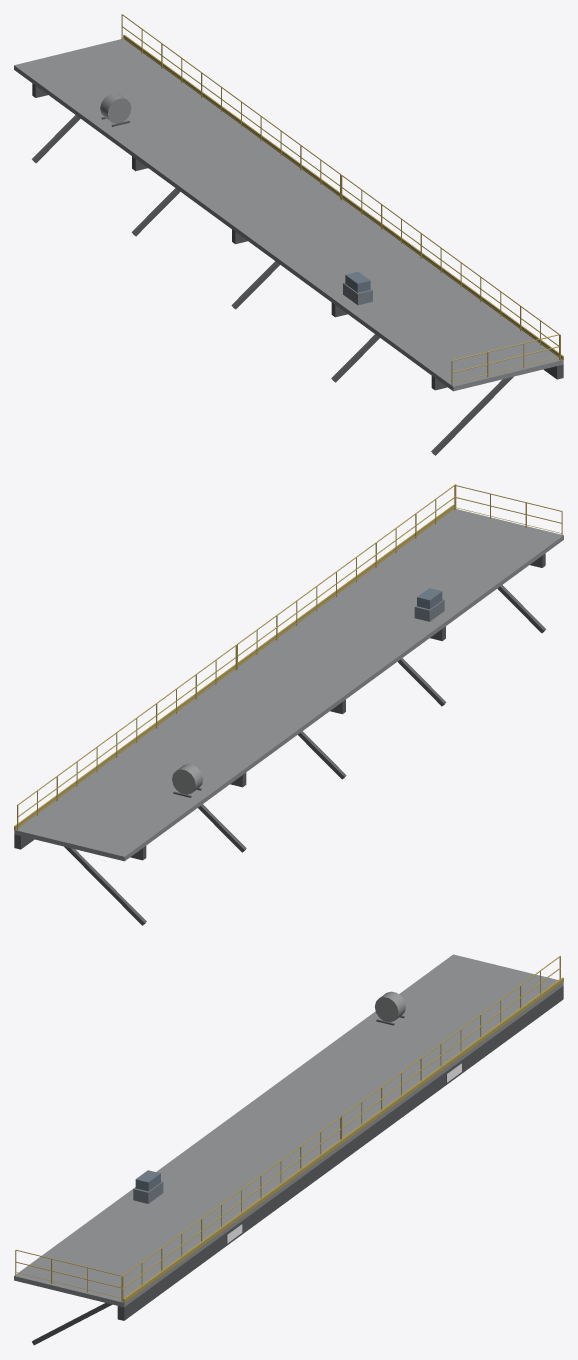
File: plat_w5.glb
3 renders of one model, top to bottom at view 1: azimuth 30°, elevation 25°; view 2: azimuth 150°, elevation 25°; view 3: azimuth 330°, elevation 25°, orthographic.
Parts seen in each view (by area): view 1: plat_w5; view 2: plat_w5; view 3: plat_w5.
Boxes of the visible parts, x1,y1,x2,y2 form: plat_w5: [14, 14, 563, 455]; plat_w5: [14, 484, 563, 925]; plat_w5: [14, 954, 563, 1345].
Bounding box in the file's own units: 5.18 × 4.79 × 35.2.
